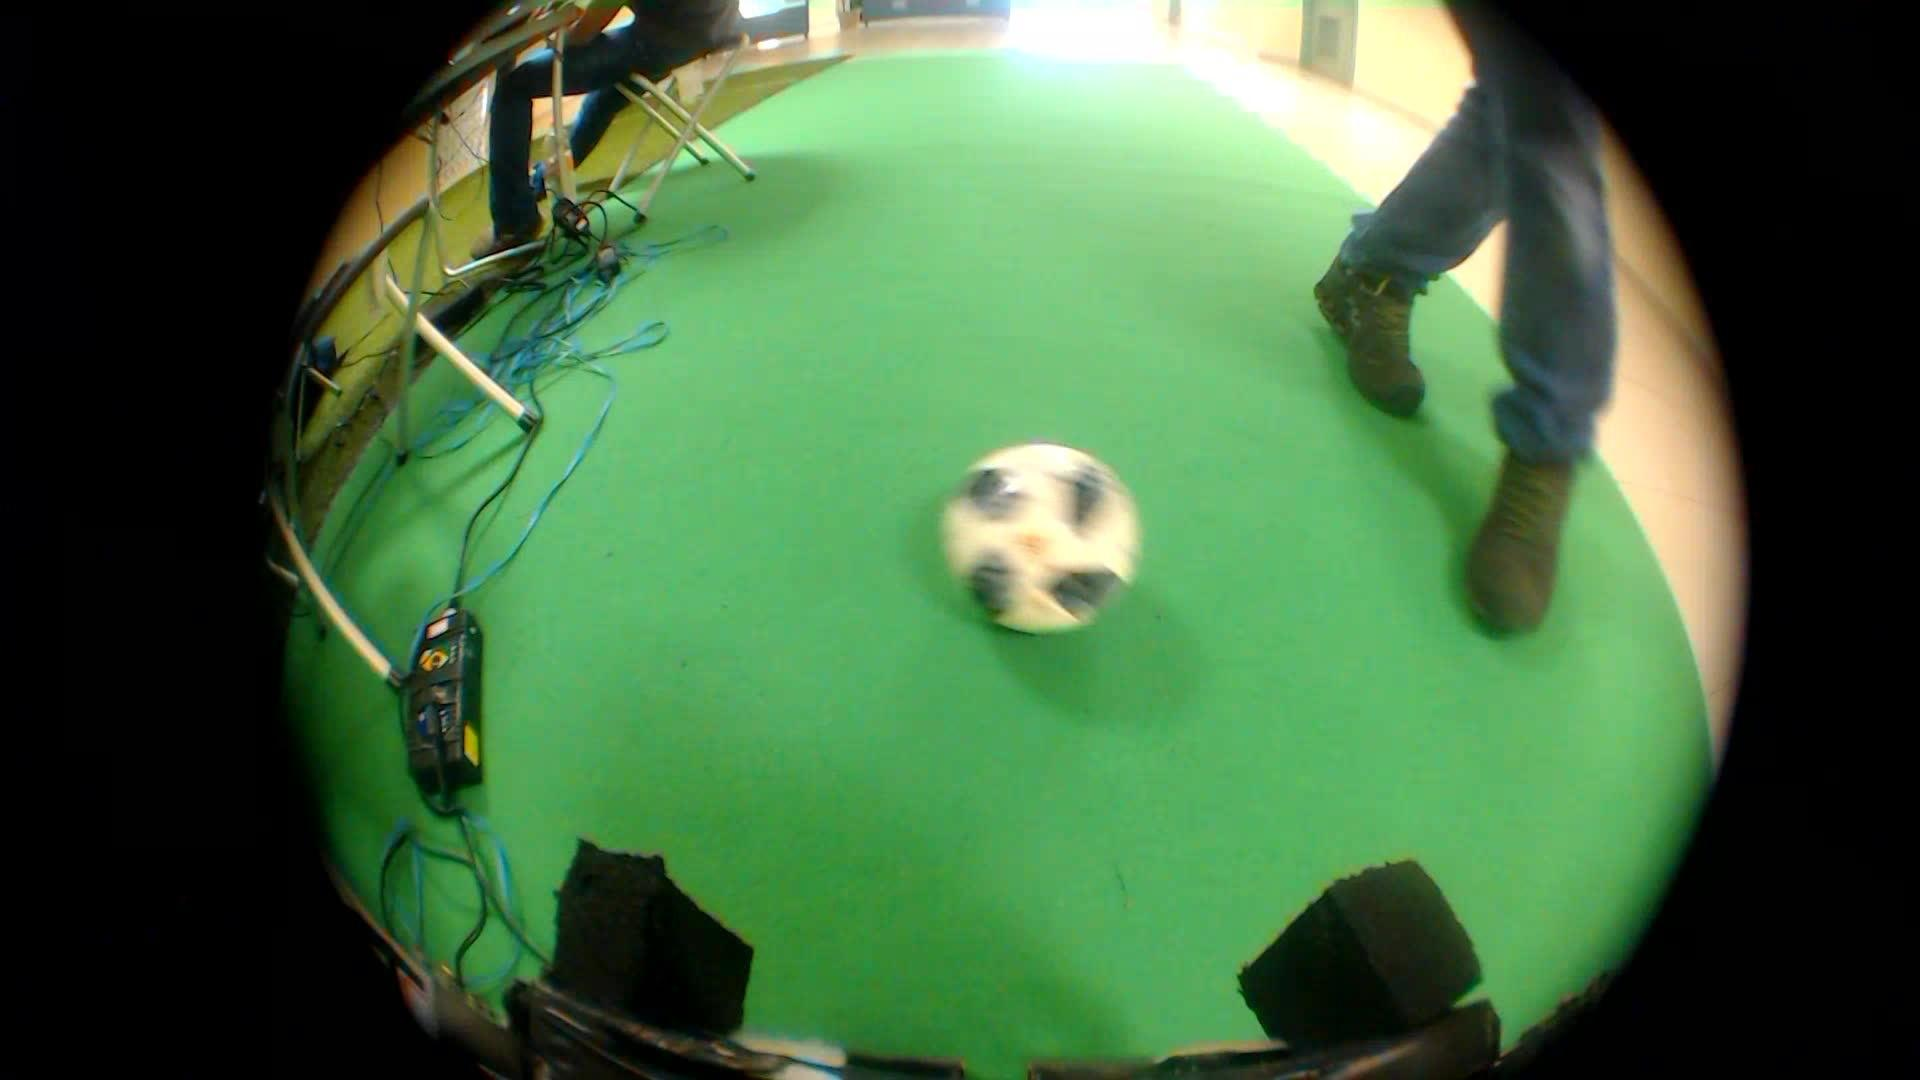ball: (910, 418, 1176, 665)
